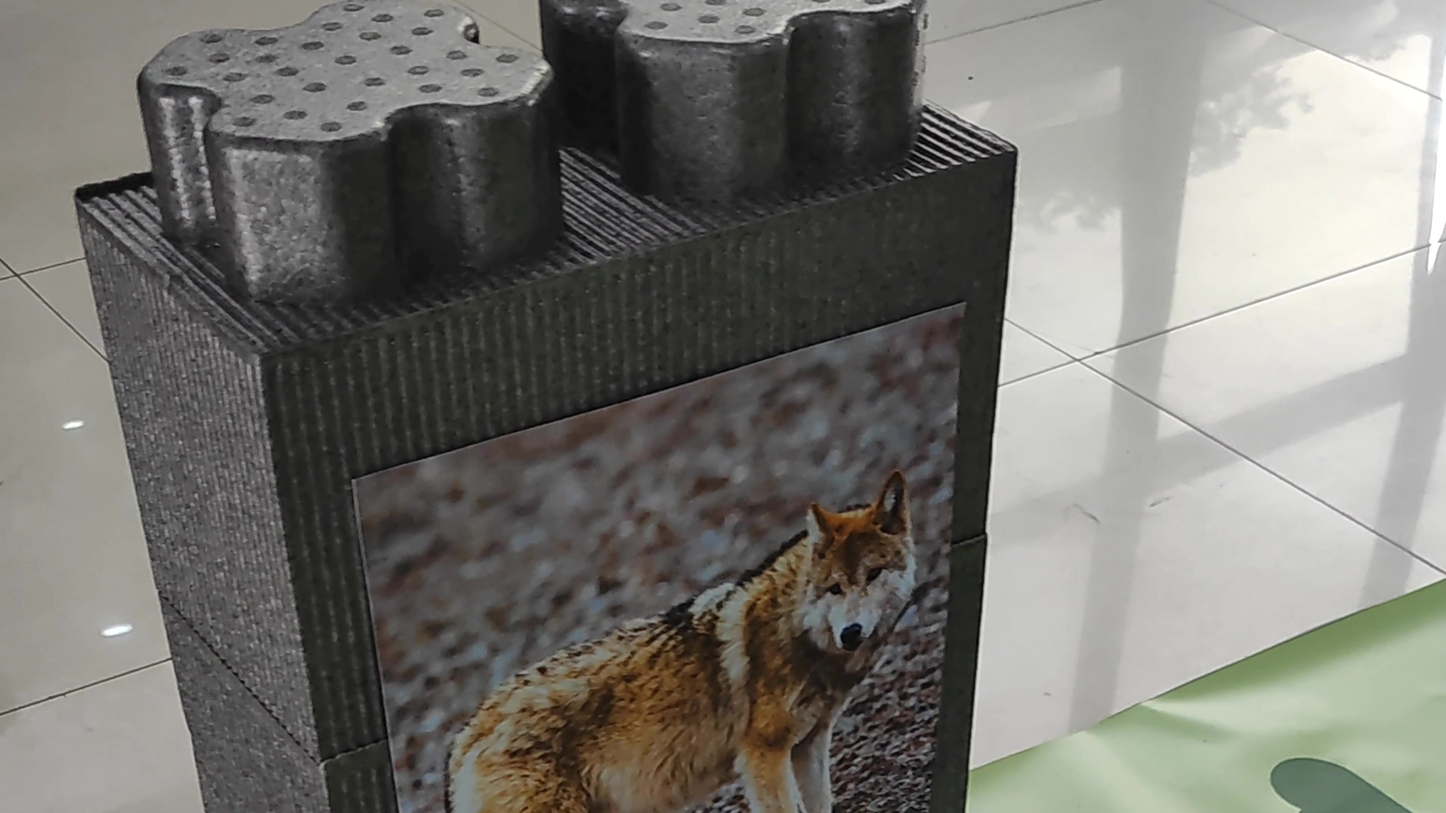wolf: (447, 446, 927, 813)
